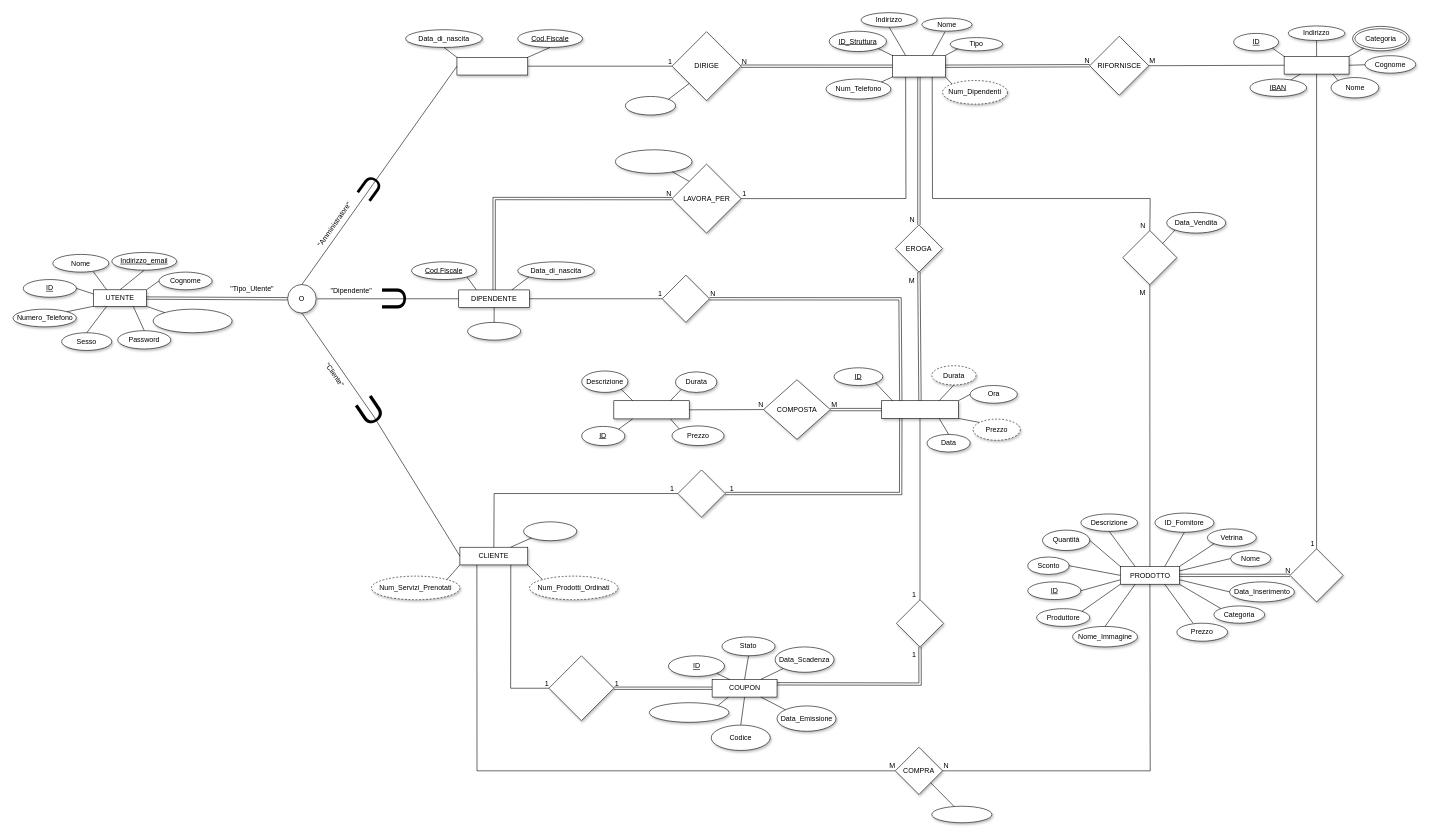
Some shapes in this 1430 by 837 pixel diagram are drawn without their labels. The centre of each missing label's shape, as x and y in pixels:
AMMINISTRATORE: point 492,66
Bloccato: point 550,532
Data_Acquisto: point 962,815
Data_Assunzione: point 654,162
Data_Inizio: point 650,106
EFFETTUA: point 702,494
ESEGUE: point 686,299
FORNISCE: point 1317,576
FORNITORE: point 1317,65
Foto: point 494,331
Indirizzo_Residenza: point 193,321
OTTIENE: point 581,689
PRENOTAZIONE: point 920,410
Sconto_Percentuale: point 689,713
SERVIZIO: point 652,410
STRUTTURA: point 919,66
USATO: point 920,624
VENDE: point 1150,258
